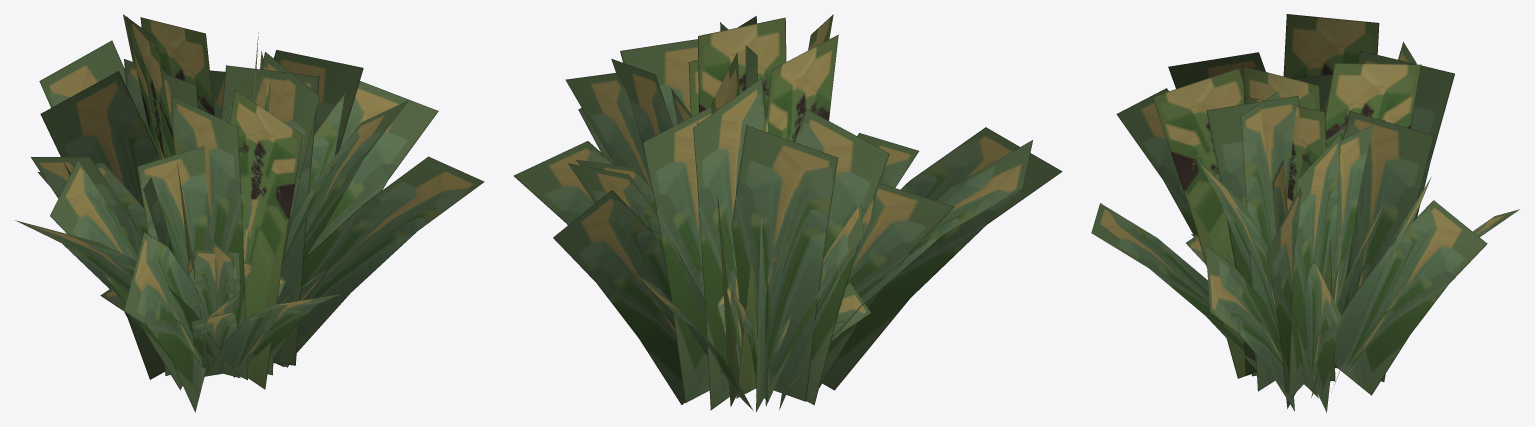
Rendered from slough_sedge.glb.
3 views of the same model, side by side, from view 1: azimuth 30°, elevation 25°; view 2: azimuth 150°, elevation 25°; view 3: azimuth 270°, elevation 25° (orthographic). The views are drawn at different scales.
Visible parts, largest first — view 1: slough_sedge_b_lod0, slough_sedge_a_lod0; view 2: slough_sedge_b_lod0, slough_sedge_a_lod0; view 3: slough_sedge_b_lod0.
Boxes of the visible parts, bbox=[...] form: slough_sedge_b_lod0: bbox=[15, 14, 484, 412]; slough_sedge_a_lod0: bbox=[100, 231, 325, 377]; slough_sedge_b_lod0: bbox=[513, 14, 1062, 412]; slough_sedge_a_lod0: bbox=[717, 282, 870, 395]; slough_sedge_b_lod0: bbox=[1091, 14, 1519, 412].
Size of what is drawn, in the model's own units: 1.64 by 1.24 by 1.41.
Materials: 1 (1 with a texture image).
